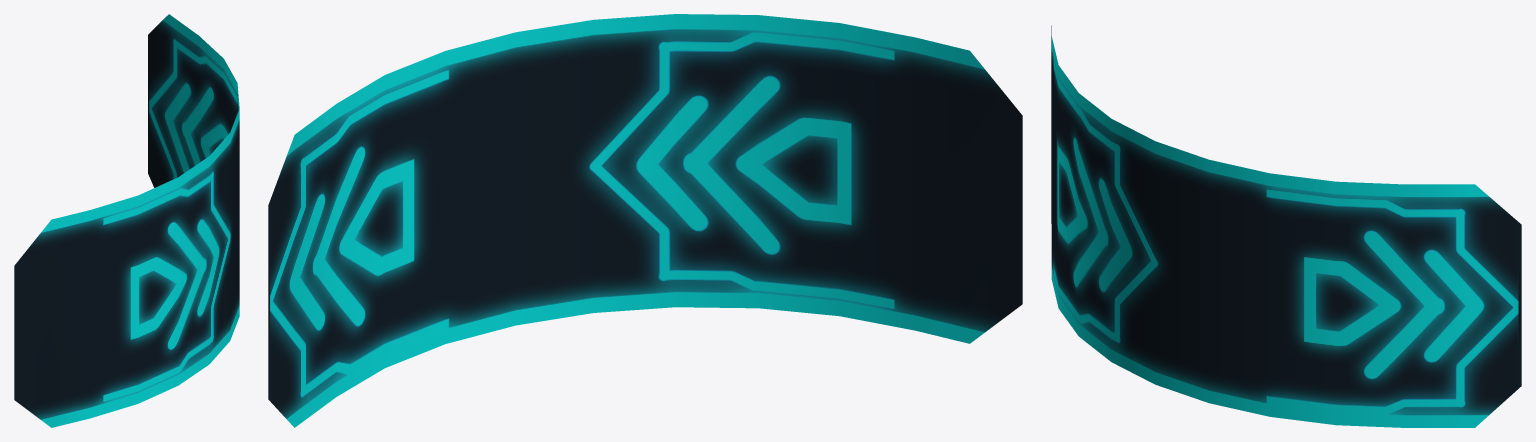
The model's file is SM_WallRun_Curved_Left_90.fbx.
3 renders of one model, left to right at view 1: azimuth 30°, elevation 25°; view 2: azimuth 150°, elevation 25°; view 3: azimuth 270°, elevation 25°, orthographic. The views are drawn at different scales.
Visible parts, largest first — view 1: Screen.001; view 2: Screen.001; view 3: Screen.001.
Part boxes in pixels (x1,y1,x2,y2): Screen.001: (14,14,239,427); Screen.001: (268,14,1022,427); Screen.001: (1051,25,1521,427).
Size of the model in its own units: 2943 by 1744 by 3051.
